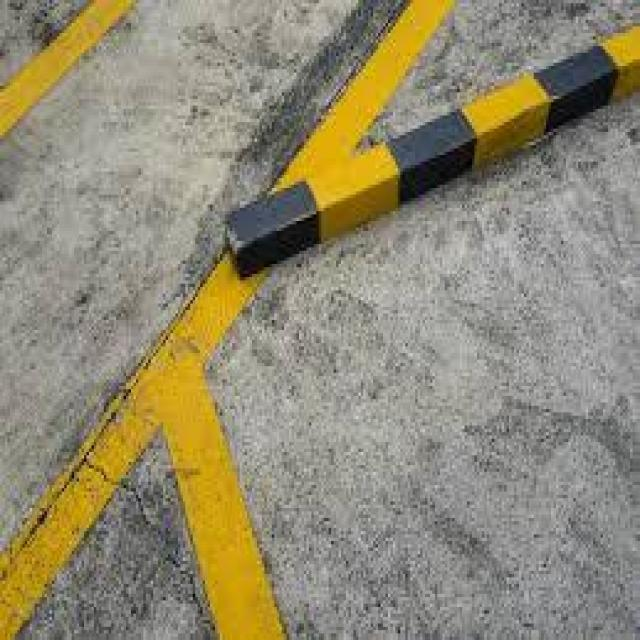curb: (221, 28, 639, 281)
